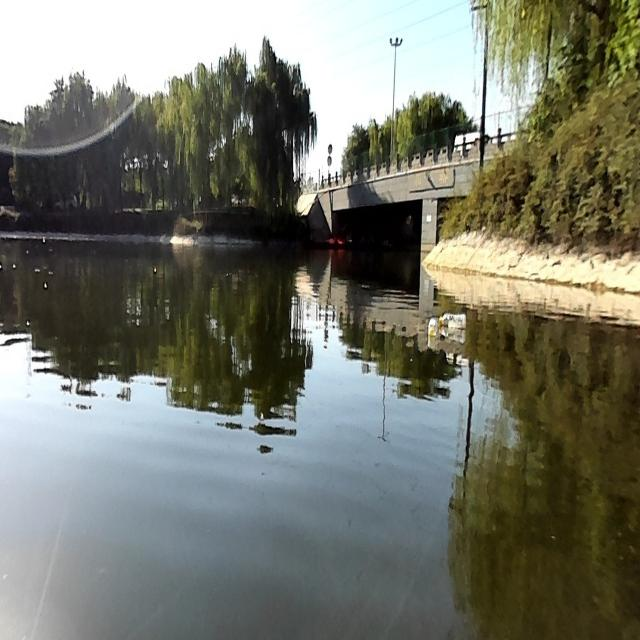bottle: (440, 310, 466, 329), (428, 316, 436, 334)
